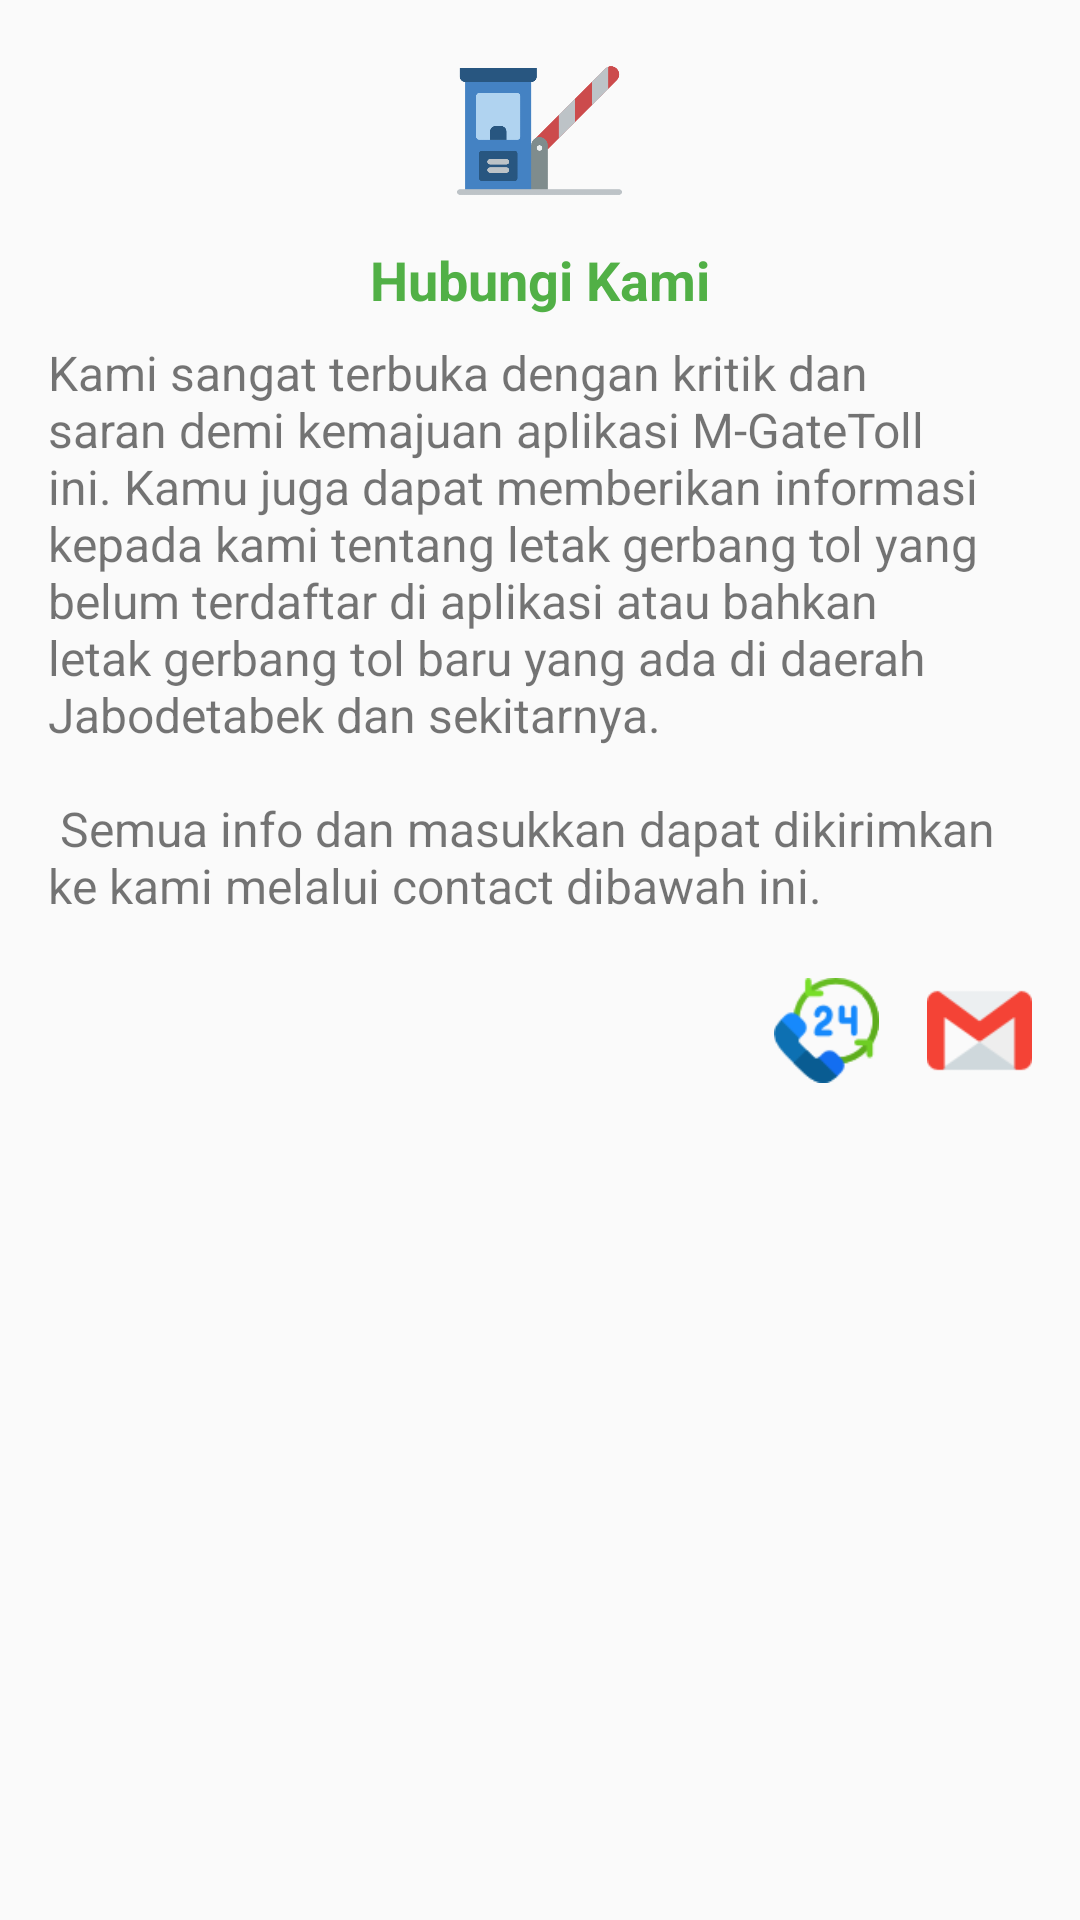

Screen size 1080w x 1920h. Icon name, then its center in pixels as [x,y]:
telp: [826,1030]
tollroad: [539,130]
